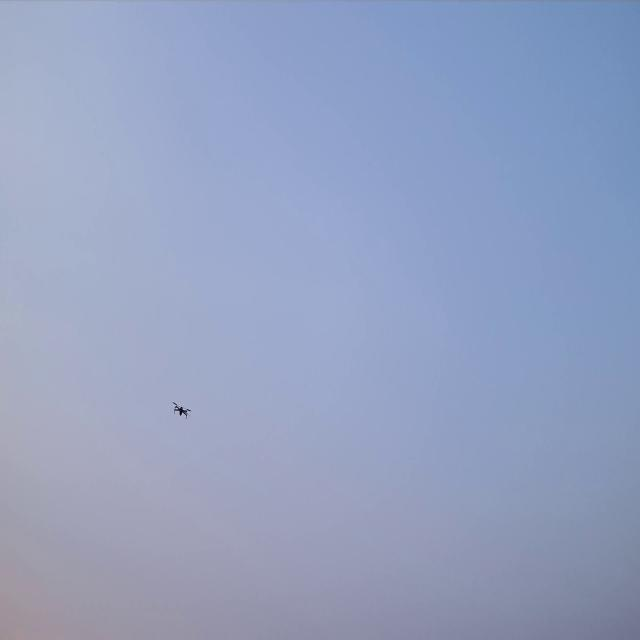UAV: (172, 400, 192, 419)
